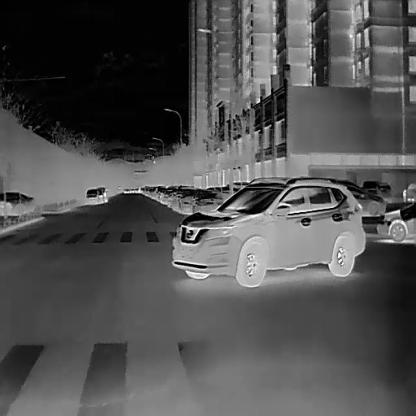car: (172, 176, 366, 286), (333, 180, 386, 214), (0, 189, 35, 217), (192, 189, 223, 220), (172, 184, 192, 213), (178, 188, 192, 214), (84, 188, 102, 206), (96, 185, 109, 204), (152, 186, 166, 201), (160, 189, 170, 204), (166, 192, 173, 210)
